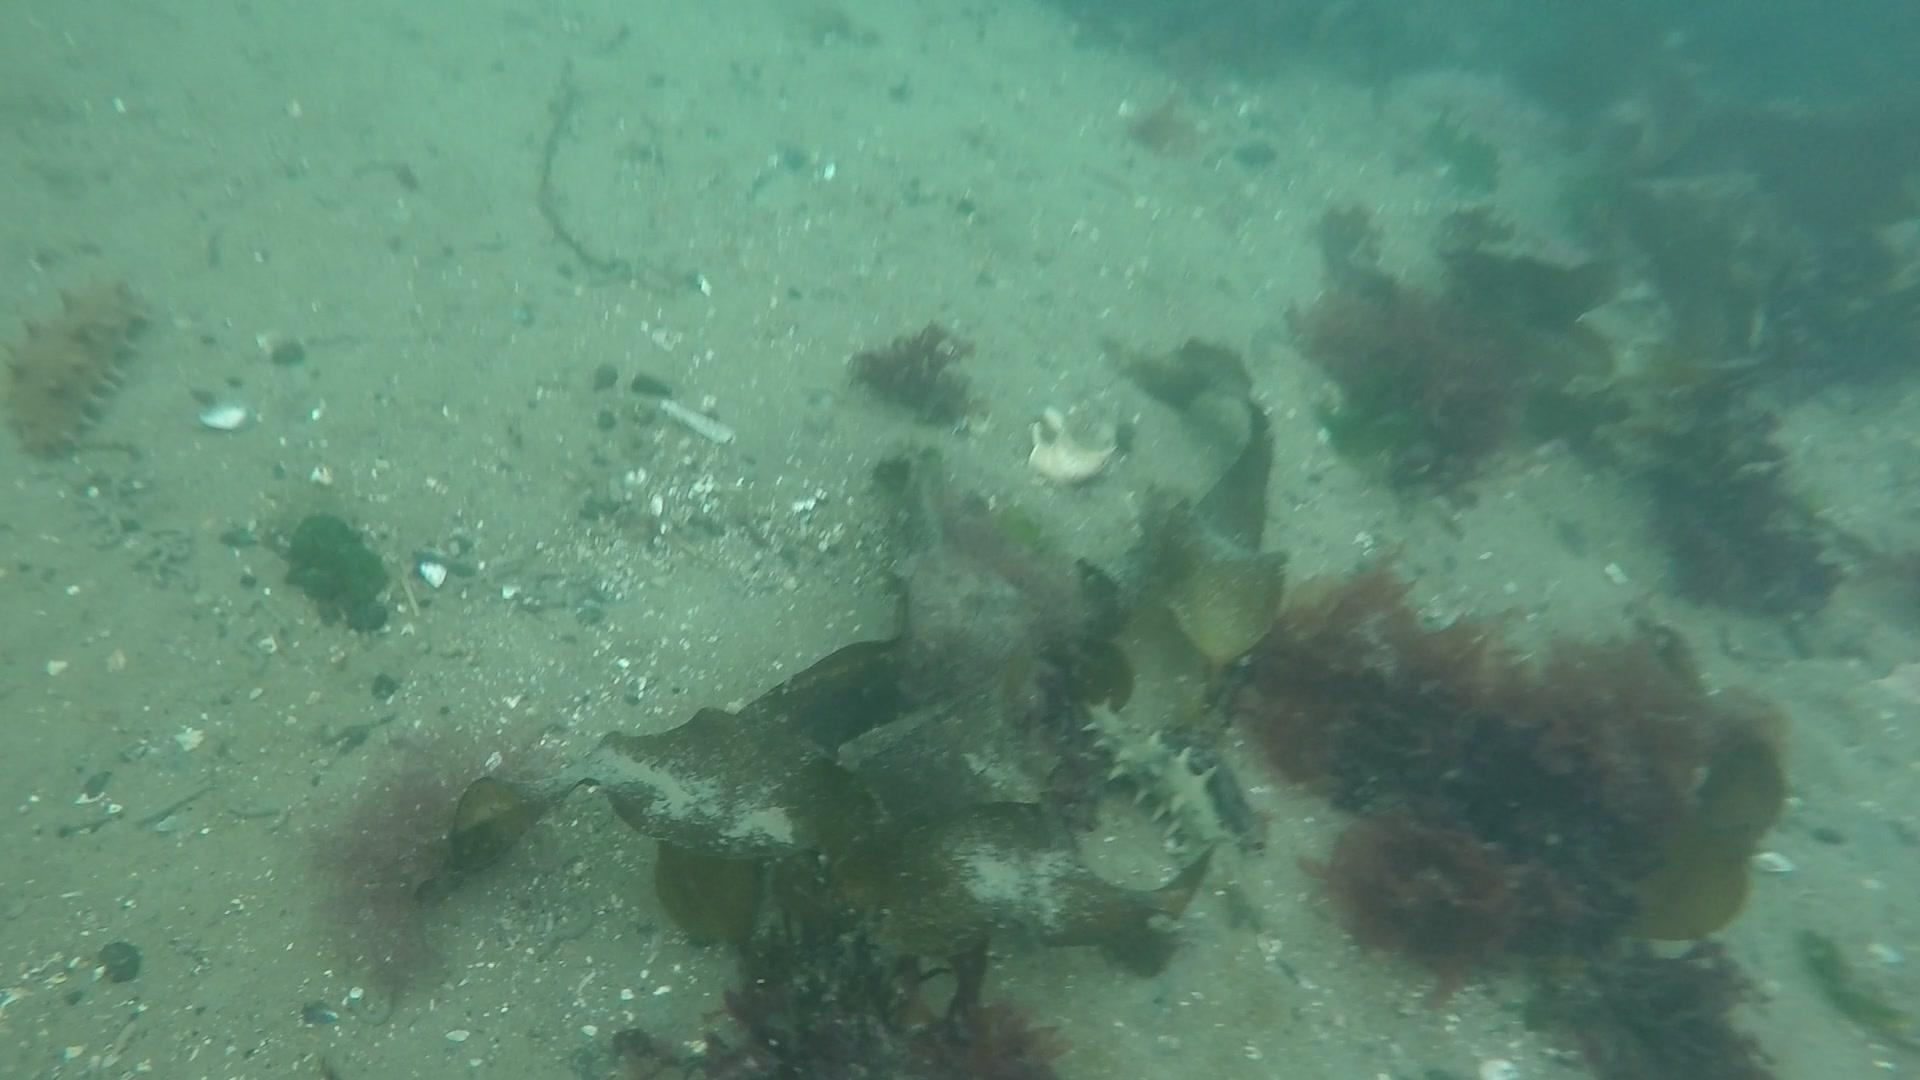holothurian: (3, 261, 153, 465), (1072, 694, 1237, 864)
